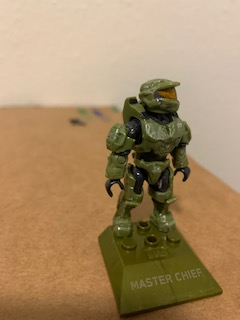chief: (104, 78, 193, 232)
spartan: (102, 76, 191, 230)
